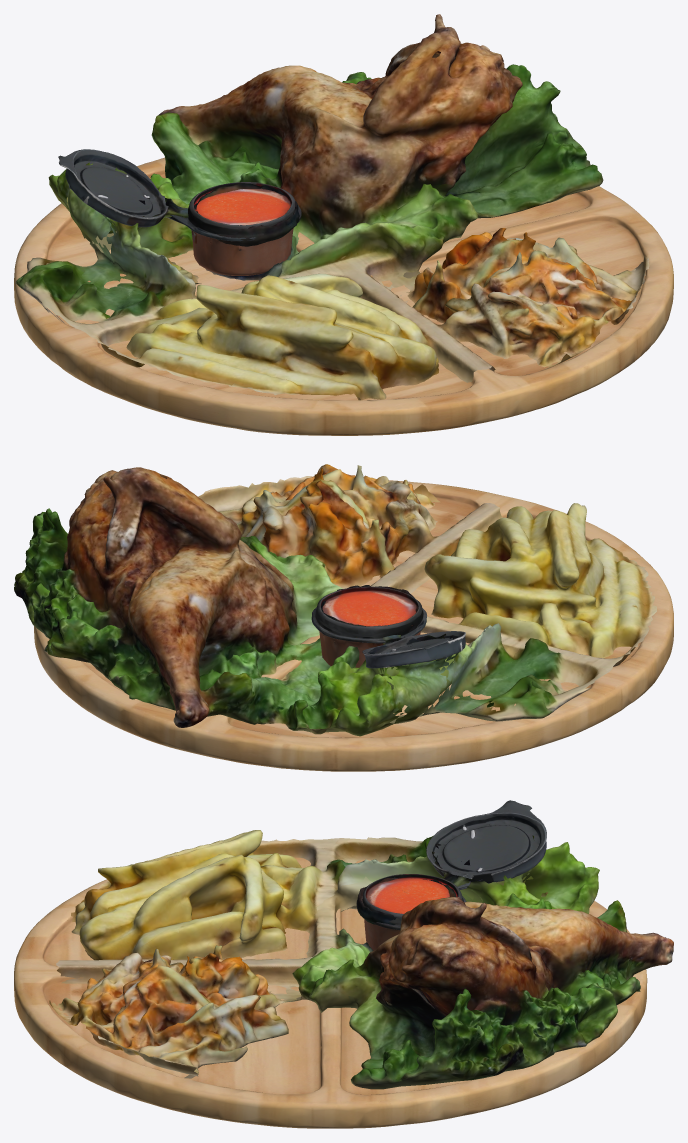
The model's file is half.chicken.rose.glb.
The picture shows the model from 3 angles, top to bottom: view 1: azimuth 30°, elevation 25°; view 2: azimuth 150°, elevation 25°; view 3: azimuth 270°, elevation 25°; orthographic projection. The views are drawn at different scales.
Visible parts, largest first — view 1: 3DModel, Mesh_0.005, Mesh_0.002; view 2: 3DModel, Mesh_0.005, Mesh_0.002; view 3: 3DModel, Mesh_0.005, Mesh_0.002.
Boxes of the visible parts, x1=… form: 3DModel: x1=16, y1=14, x2=649, y2=400; Mesh_0.005: x1=14, y1=157, x2=673, y2=435; Mesh_0.002: x1=58, y1=149, x2=301, y2=275; 3DModel: x1=14, y1=464, x2=656, y2=736; Mesh_0.005: x1=34, y1=480, x2=673, y2=771; Mesh_0.002: x1=311, y1=586, x2=465, y2=668; 3DModel: x1=49, y1=830, x2=673, y2=1089; Mesh_0.005: x1=14, y1=857, x2=647, y2=1128; Mesh_0.002: x1=362, y1=800, x2=546, y2=950.
Size of the model in its own units: 0.3318 by 0.1024 by 0.3458.
3 materials, 3 textured.
